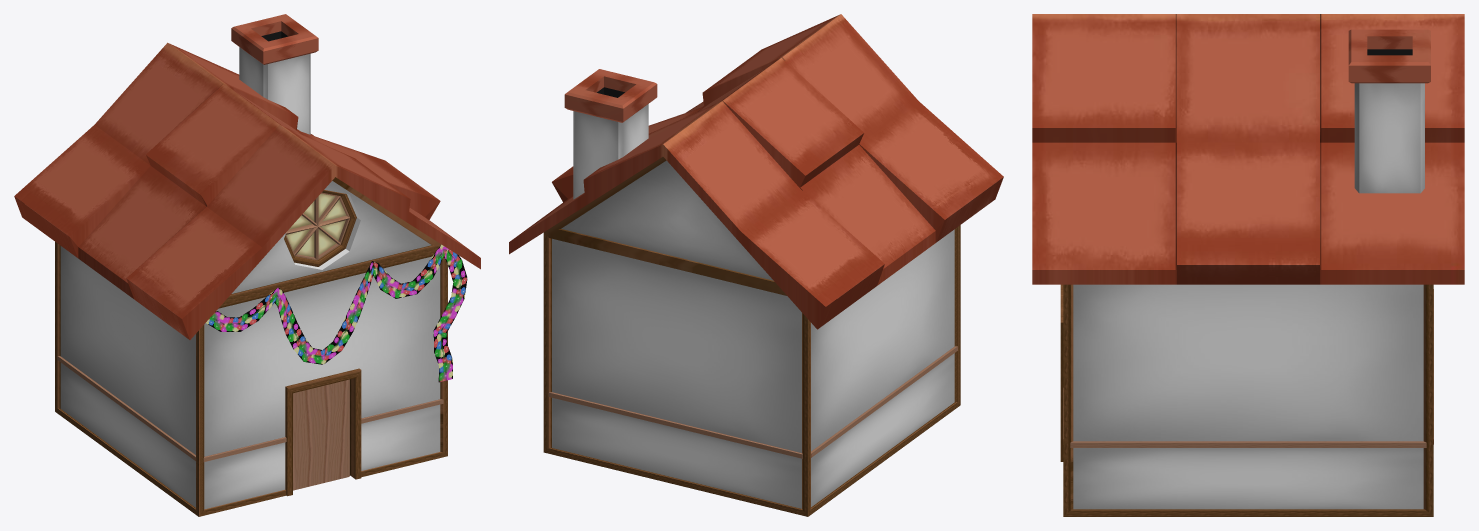
File: house.fbx
3 views of the same model, side by side, from view 1: azimuth 30°, elevation 25°; view 2: azimuth 150°, elevation 25°; view 3: azimuth 270°, elevation 25° (orthographic). The views are drawn at different scales.
Parts seen in each view (by area): view 1: Cube, Cube.003, Plane.001, Cube.001, Cylinder.001; view 2: Cube, Cube.001; view 3: Cube, Cube.001, Cube.003.
Part boxes in pixels (<box>): Cube: <box>14,42,480,516</box>; Cube.003: <box>285,368,361,496</box>; Plane.001: <box>206,244,467,382</box>; Cube.001: <box>231,14,318,134</box>; Cylinder.001: <box>284,189,356,266</box>; Cube: <box>509,14,1003,516</box>; Cube.001: <box>564,69,657,199</box>; Cube: <box>1032,14,1464,516</box>; Cube.001: <box>1348,29,1430,193</box>; Cube.003: <box>1060,284,1063,461</box>.
Size of the model in its own units: 632 by 658 by 583.
Materials: 7 (7 with a texture image).
